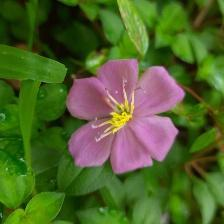malabar melastome: (65, 57, 188, 175)
